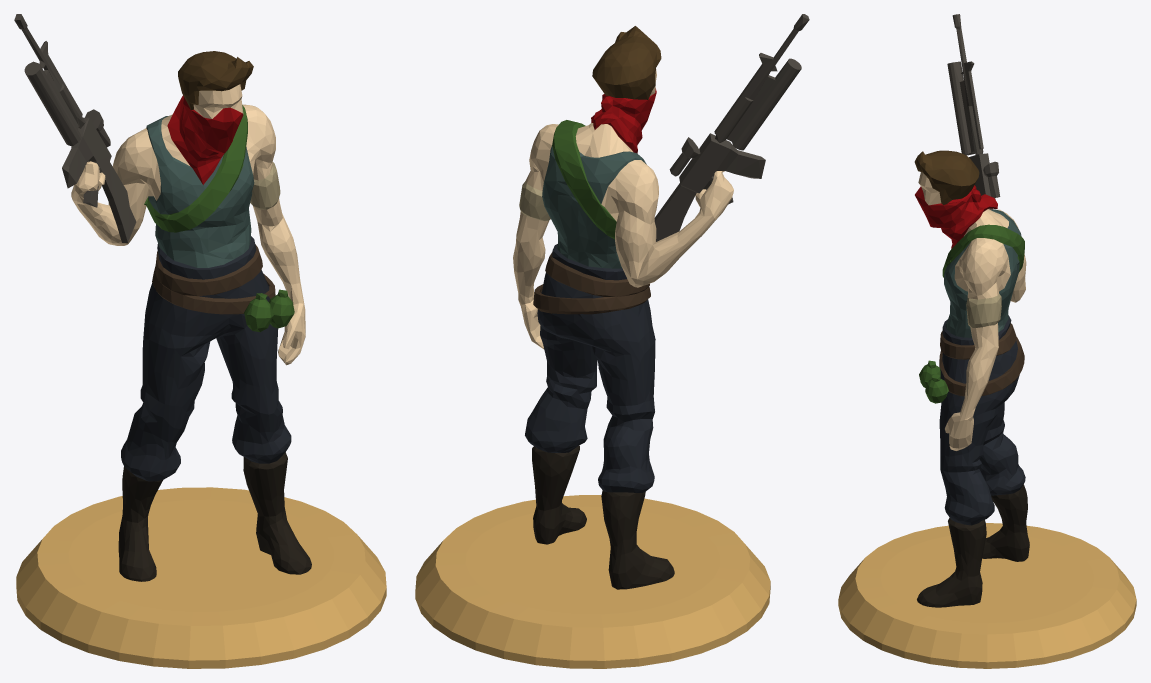
Rendered from Ch_Man_03_lowerpoly.fbx.
The picture shows the model from 3 angles, left to right: view 1: azimuth 30°, elevation 25°; view 2: azimuth 150°, elevation 25°; view 3: azimuth 270°, elevation 25°; orthographic projection. The views are drawn at different scales.
Parts seen in each view (by area): view 1: Ch_Man_03; view 2: Ch_Man_03; view 3: Ch_Man_03.
Part boxes in pixels (x1,y1,x2,y2): Ch_Man_03: (14,14,386,668); Ch_Man_03: (415,14,809,668); Ch_Man_03: (838,14,1136,668).
Bounding box in the file's own units: 121 × 202 × 106.
